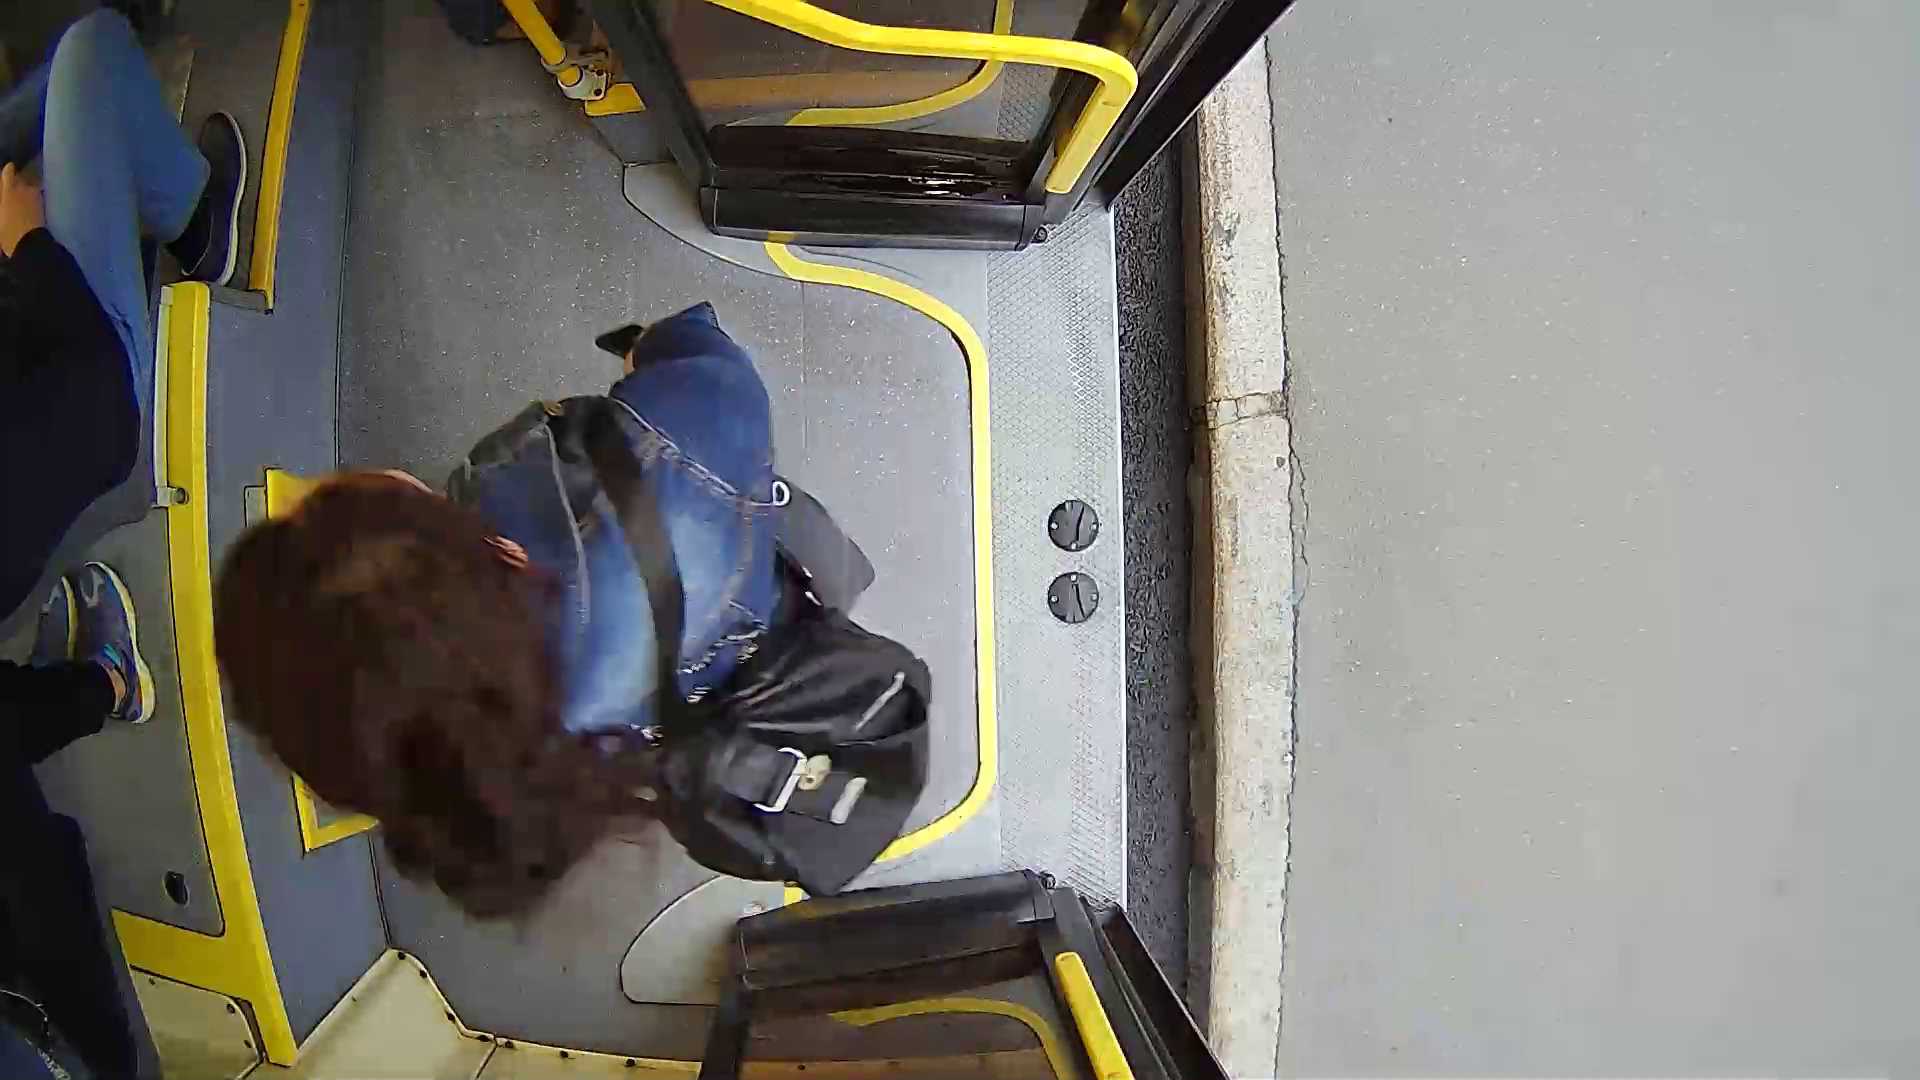person: (186, 287, 973, 926)
